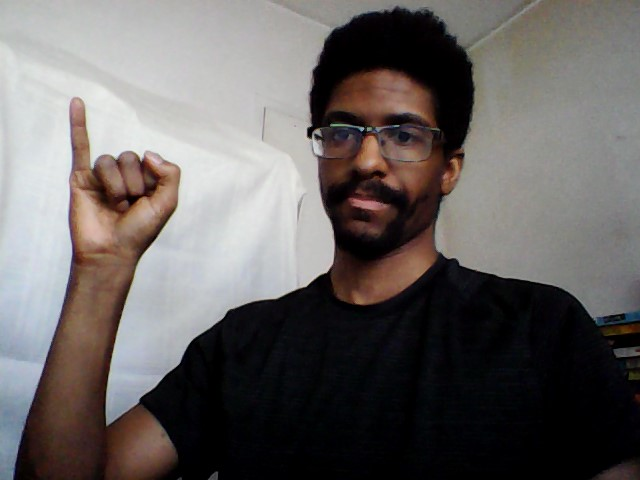i: (62, 93, 185, 266)
